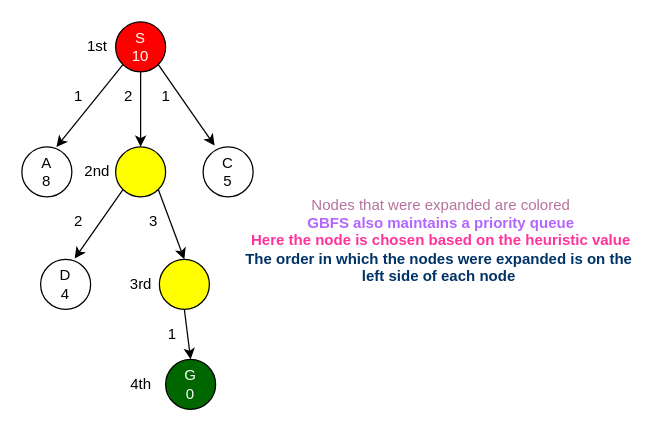
Some shapes in this 669 by 431 pixel diagram are drawn without their labels. Here are the shapes that lost their labels. From the top down, the centre of each, then its label:
the point at 140,171: B 5
the point at 183,283: E 2
